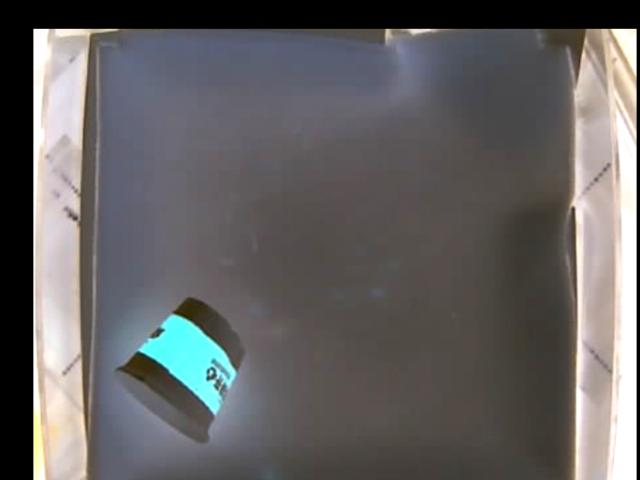Cup: (113, 295, 245, 442)
